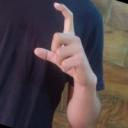hand: (34, 2, 97, 86)
